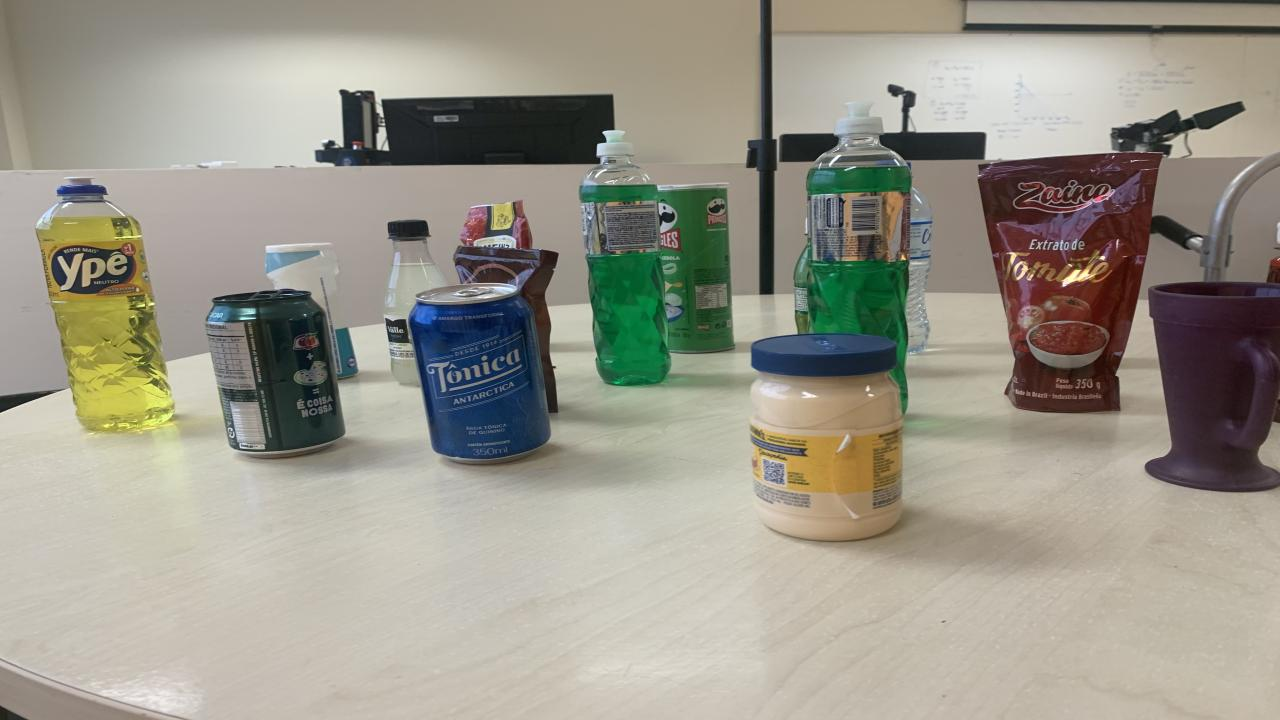Cleaner-Cleanup_Items: (265, 242, 358, 379)
Coffee-Pantry_Items: (452, 246, 558, 412)
Detergent-Cleanup_Items: (35, 176, 175, 431), (808, 101, 912, 411), (580, 131, 670, 386)
Guarana-Drinks: (792, 218, 810, 334)
Guarana_Can-Drinks: (205, 289, 345, 458)
Mayonnaise-Pantry_Items: (750, 334, 902, 540)
Soda-Drinks: (382, 219, 445, 384)
Tomato_Sauce-Pantry_Items: (978, 152, 1162, 412), (460, 201, 532, 249)
Tonic-Drinks: (410, 283, 550, 463)
Water_Bottle-Drinks: (905, 188, 932, 354)
